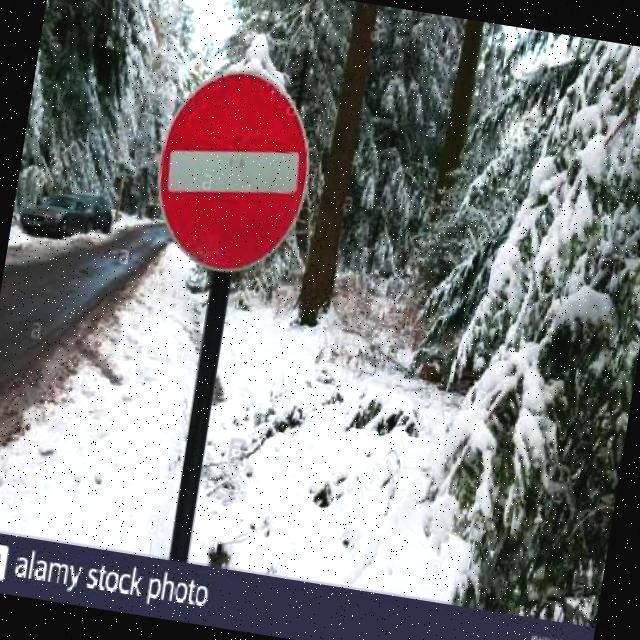Zakaz wjazdu: (140, 58, 328, 290)
